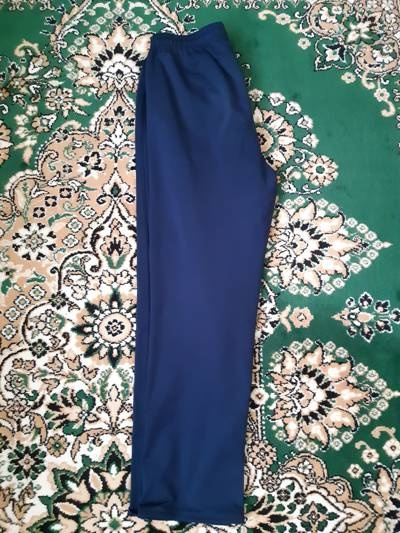Pants: (105, 21, 300, 518)
